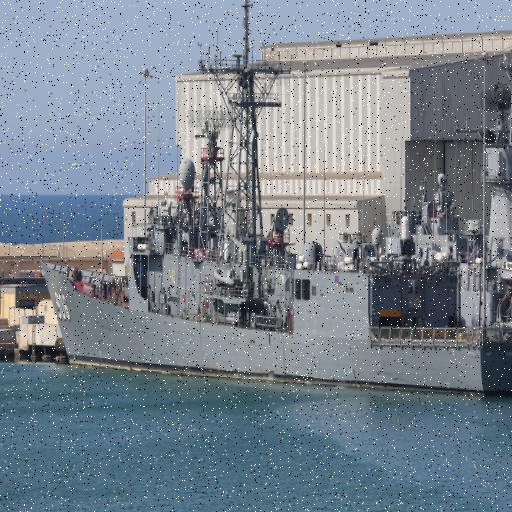Fragata: (40, 1, 512, 399)
